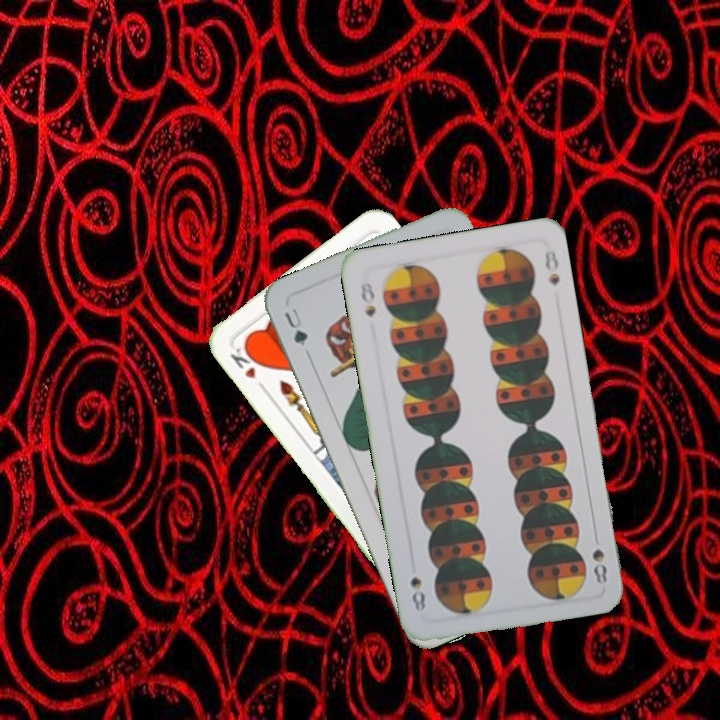GU: (280, 304, 310, 349)
HK: (226, 340, 269, 394)
S8: (588, 545, 610, 587), (357, 278, 378, 320)
